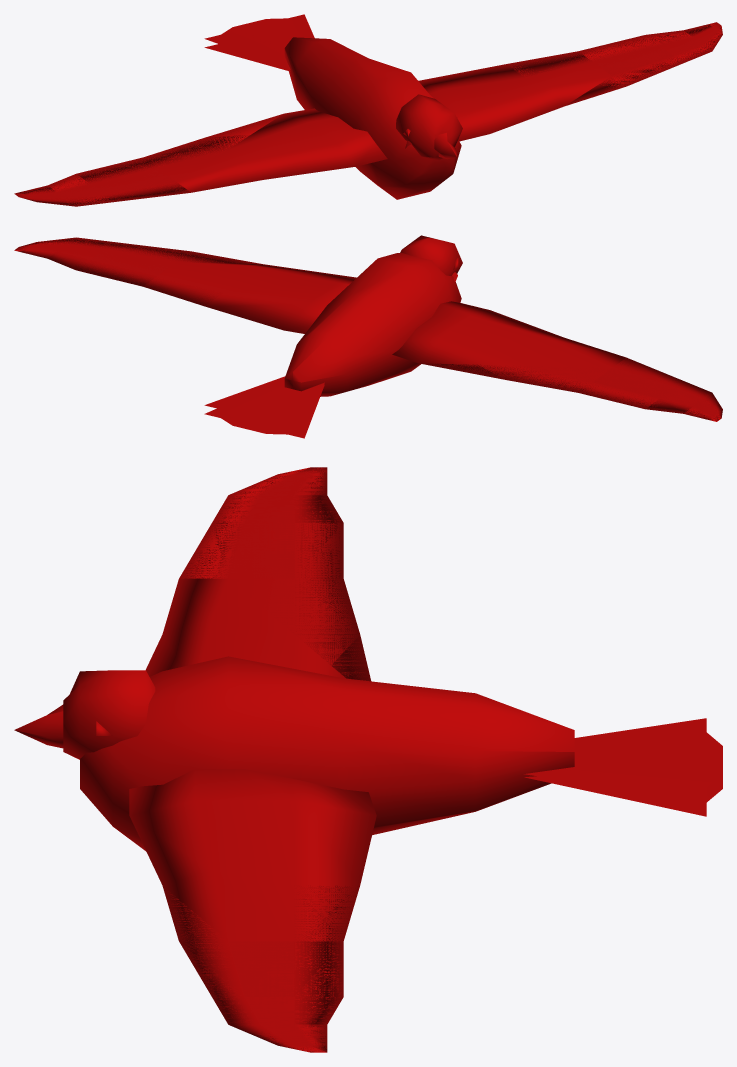
File: bunting.glb
3 renders of one model, top to bottom at view 1: azimuth 30°, elevation 25°; view 2: azimuth 150°, elevation 25°; view 3: azimuth 270°, elevation 25°, orthographic. The views are drawn at different scales.
Visible parts, largest first — view 1: wing, body; view 2: wing, body; view 3: wing, body.
Part boxes in pixels (box(x1,y1,x2,y2)): wing: box(14, 22, 722, 206); body: box(204, 14, 462, 199); wing: box(14, 237, 722, 421); body: box(204, 235, 462, 438); wing: box(129, 467, 376, 1052); body: box(14, 656, 722, 851).
Bounding box in the file's own units: 0.3281 × 0.0469 × 0.168.
